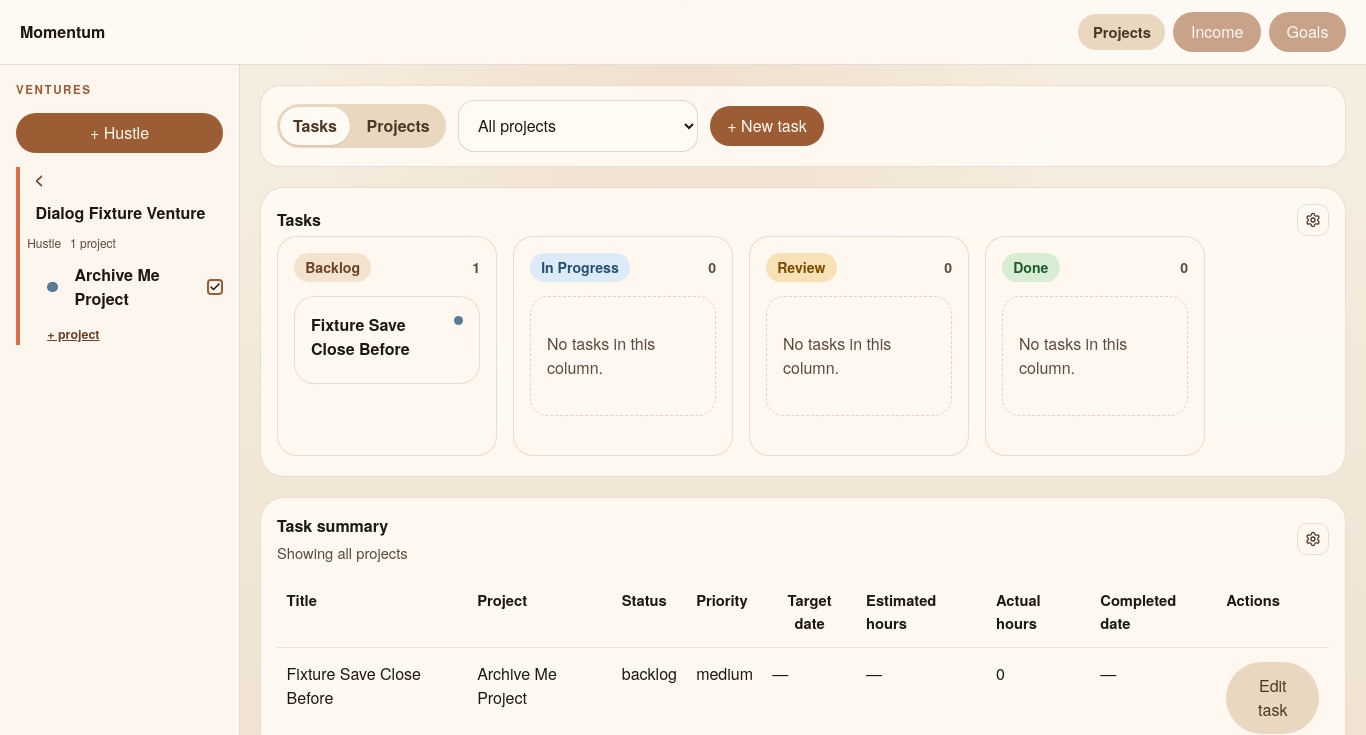
Workspace dialogs (integration) › autosaves touched task edits when closing Edit task dialog from X
Click the button with test id "kanban-task-title" at (380, 337), box top-left (311, 313), bottom-right (449, 361)
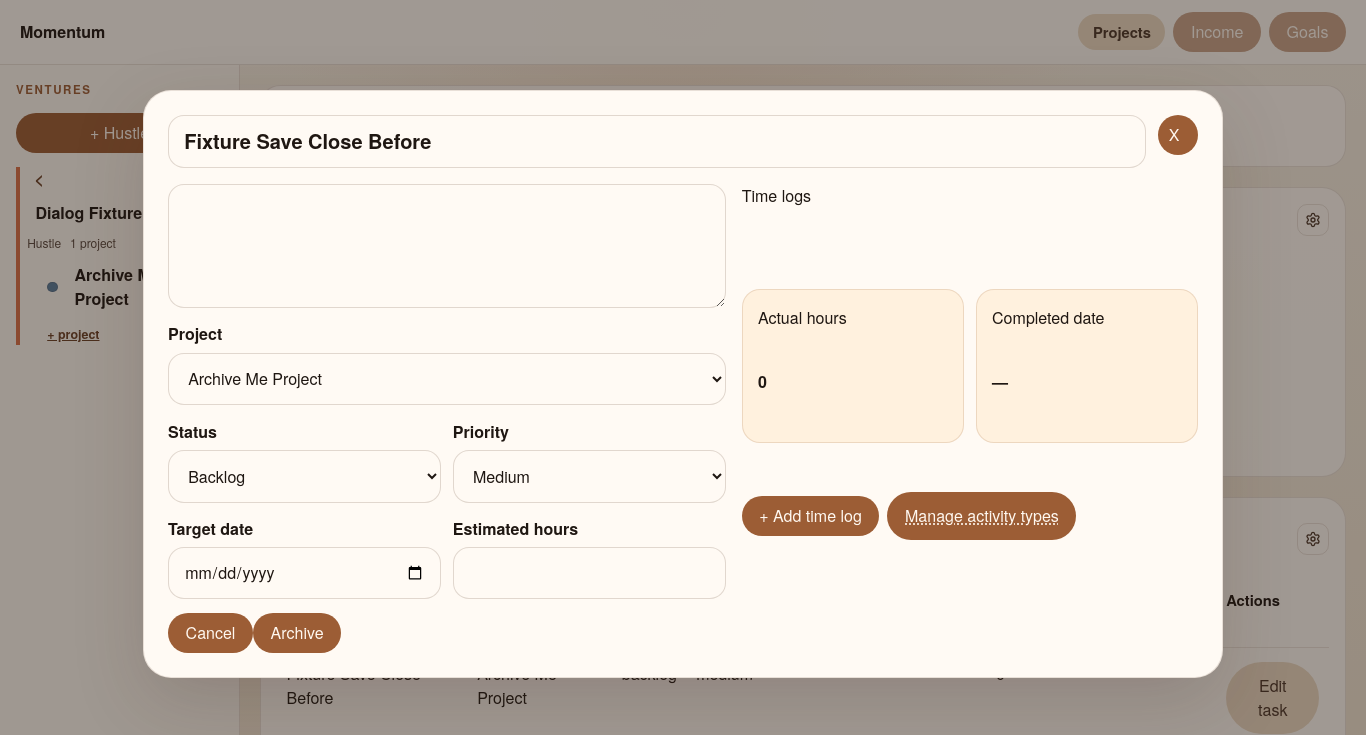
Type "Fixture saved on close description" into the text box named "description" at (447, 246), box top-left (168, 184), bottom-right (726, 308)
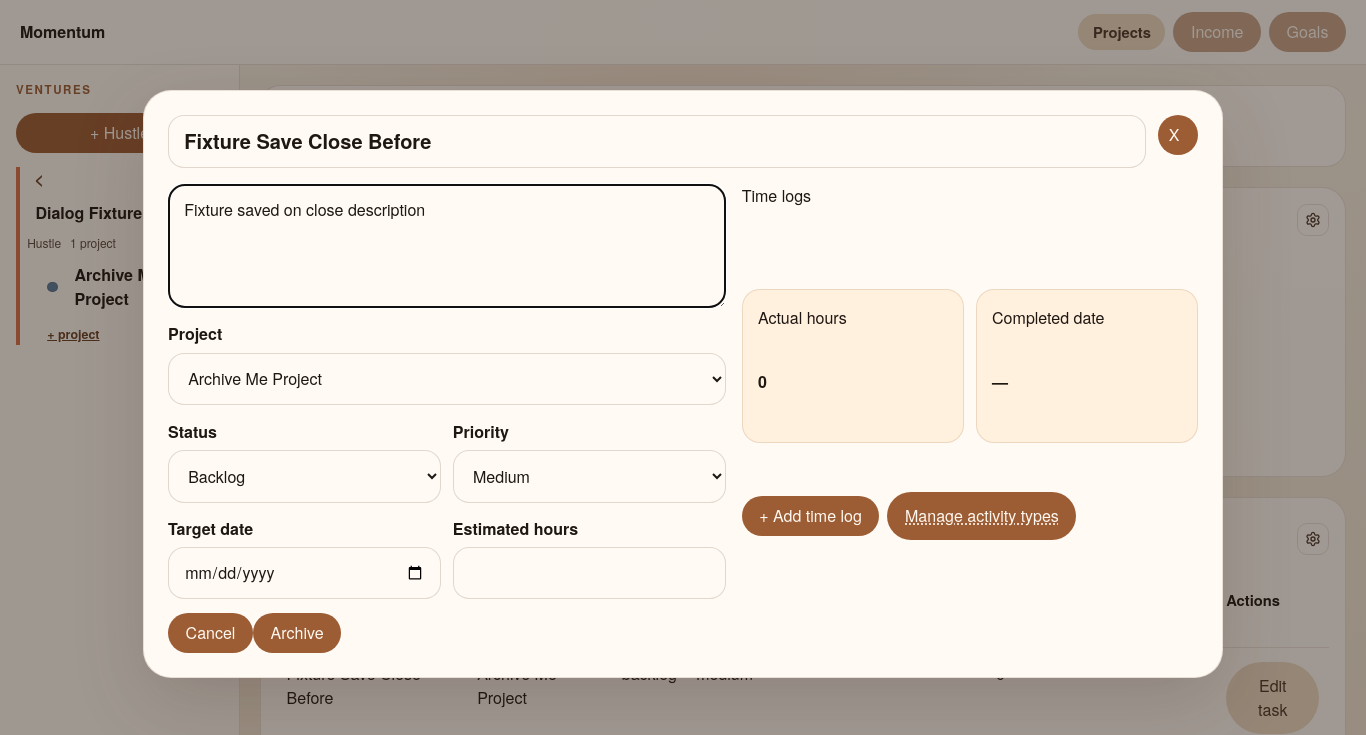
Click the button named "close task" at (1178, 135), box top-left (1158, 115), bottom-right (1198, 155)
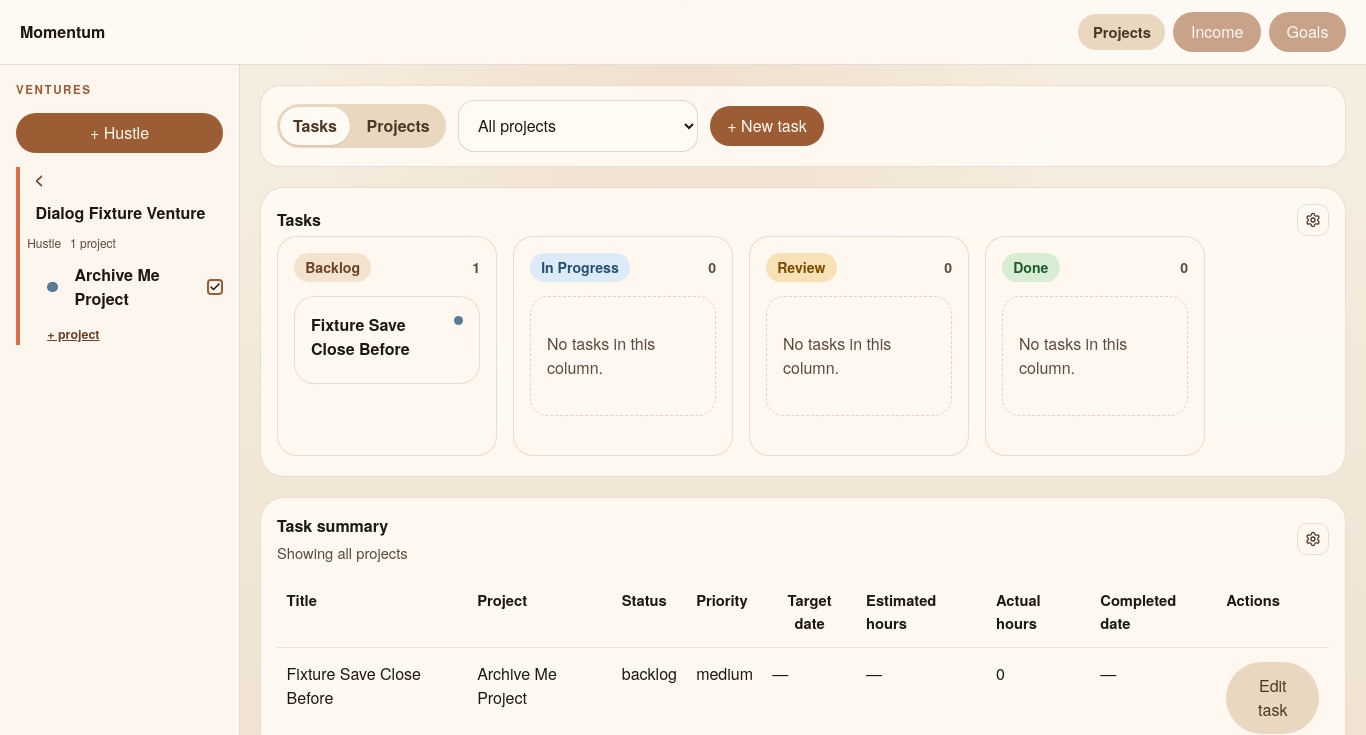
Click the button with test id "kanban-task-title" at (380, 337), box top-left (311, 313), bottom-right (449, 361)
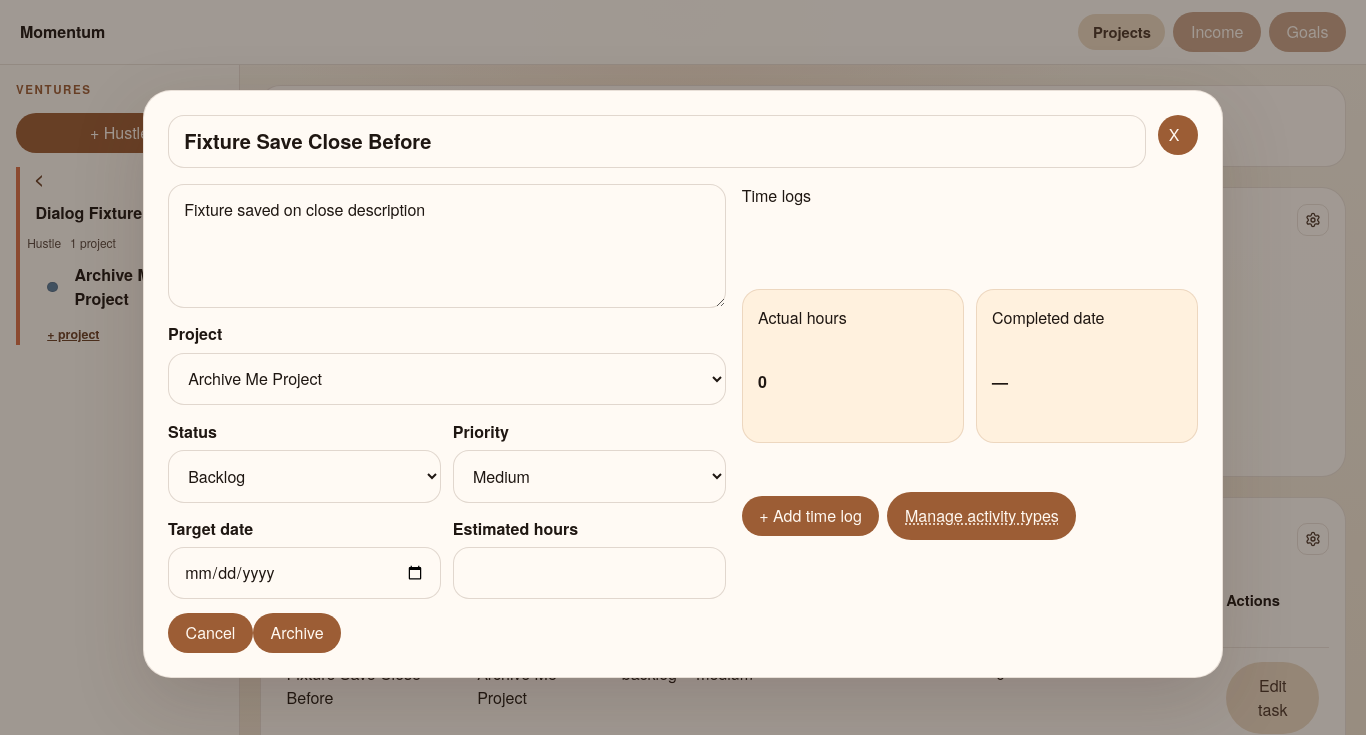
Expected: the dialog named "edit task" is shown
Expected: the text box named "description" holds "Fixture saved on close description", top-left (168, 184), bottom-right (726, 308)
